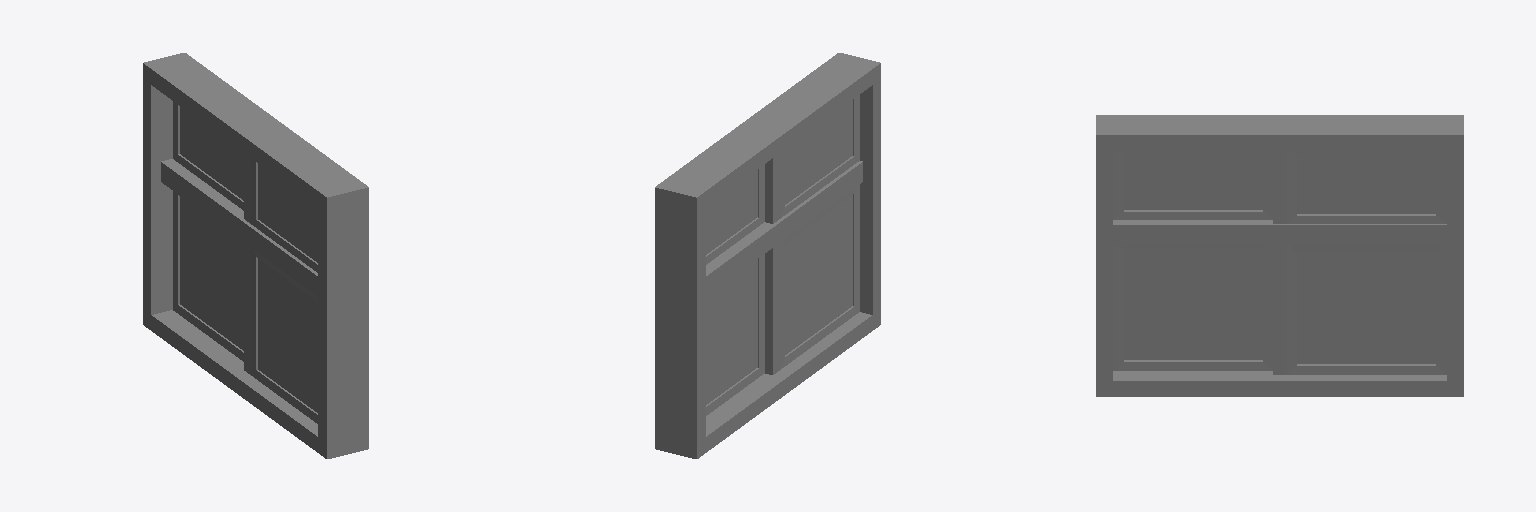
File: inside_window.obj
3 renders of one model, left to right at view 1: azimuth 30°, elevation 25°; view 2: azimuth 150°, elevation 25°; view 3: azimuth 270°, elevation 25°, orthographic.
Visible parts, largest first — view 1: ????; view 2: ????; view 3: ????.
Part boxes in pixels (x1,y1,x2,y2): ????: (143,53,368,458); ????: (655,53,880,458); ????: (1096,115,1463,396).
Bounding box in the file's own units: 0.2431 × 1.44 × 1.83.